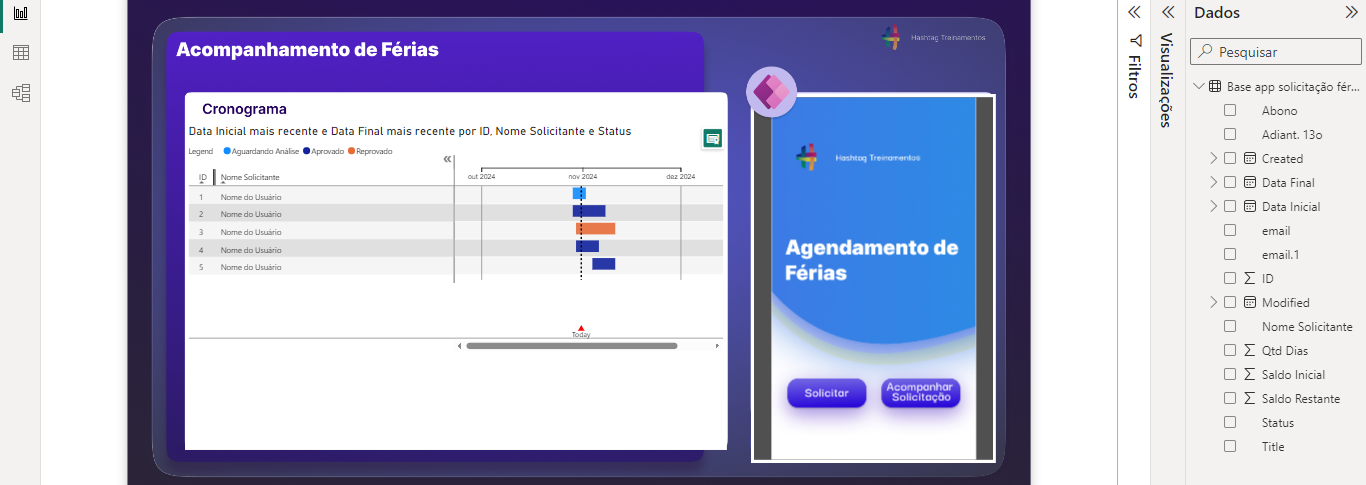

This screenshot's page, from the dashboard's own definition file:
{"tool":"powerbi","page":{"name":"Página 1","canvas":[1280,720],"ordinal":0},"visuals":[{"type":"shape","box":[884.4,143.1,347.2,523],"z":0},{"type":"GanttChartByMAQSoftware1448688115701","fields":{"Category":["Base app solicitação férias.ID","Base app solicitação férias.Nome Solicitante"],"EndDate":["Min(Base app solicitação férias.Data Final)"],"StartDate":["Min(Base app solicitação férias.Data Inicial)"],"Legend":["Base app solicitação férias.Status"]},"box":[82.2,185.7,768.2,462],"z":1000},{"type":"PowerApps_PBI_CV_C29F1DCC_81F5_4973_94AD_0517D44CC06A","fields":{"table":["CountNonNull(Base app solicitação férias.ID)"]},"box":[884.4,143.1,347.2,523],"z":3501},{"type":"image","box":[840.5,99.2,146,87.9],"z":4001}]}

Visuals, with their boxes in screenshot pixels (x1, y1, x2, y2):
shape: box=[750, 88, 988, 447]
GanttChartByMAQSoftware1448688115701 - Base app solicitação férias.ID x Base app solicitação férias.Nome Solicitante: box=[199, 117, 727, 434]
PowerApps_PBI_CV_C29F1DCC_81F5_4973_94AD_0517D44CC06A - CountNonNull(Base app solicitação férias.ID): box=[750, 88, 988, 447]
image: box=[720, 57, 820, 118]
